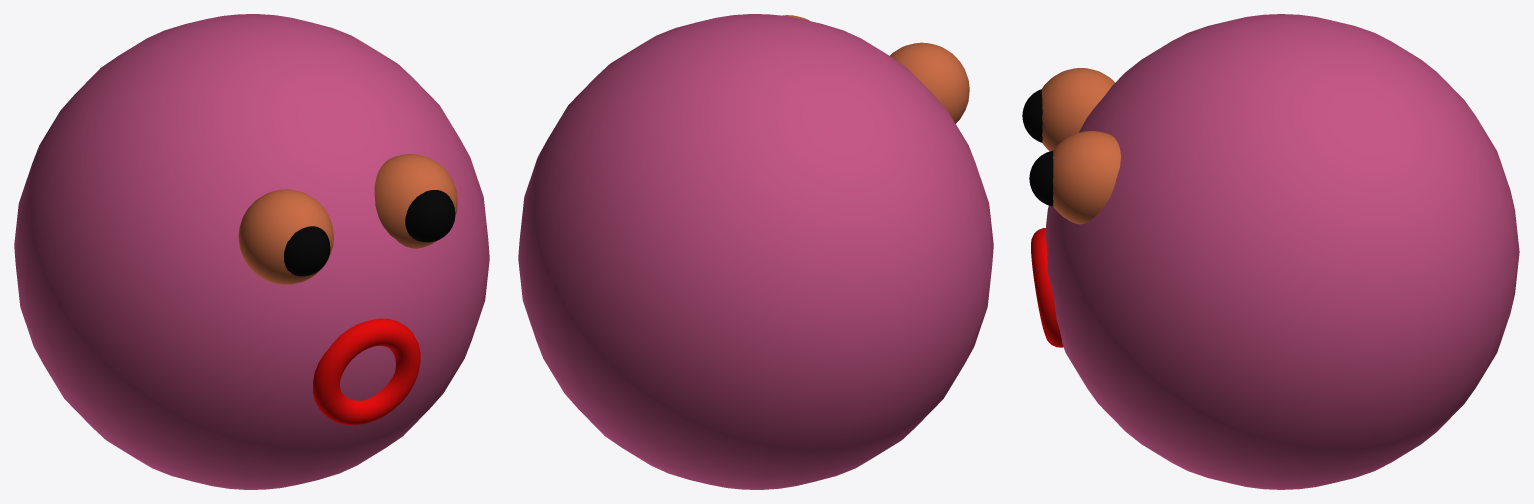
Rendered from tamar.fbx.
3 views of the same model, side by side, from view 1: azimuth 30°, elevation 25°; view 2: azimuth 150°, elevation 25°; view 3: azimuth 270°, elevation 25° (orthographic).
Parts seen in each view (by area): view 1: Sphere, Torus, Sphere_1, Sphere_2, Sphere_5, Sphere_4; view 2: Sphere, Sphere_1; view 3: Sphere, Sphere_2, Sphere_1, Torus, Sphere_5, Sphere_4.
Part boxes in pixels (box(x1,y1,x2,y2)): Sphere: box(14, 14, 489, 489); Torus: box(313, 318, 420, 425); Sphere_1: box(238, 189, 333, 284); Sphere_2: box(374, 154, 457, 248); Sphere_5: box(405, 190, 455, 242); Sphere_4: box(284, 226, 330, 276); Sphere: box(518, 14, 993, 489); Sphere_1: box(890, 42, 969, 123); Sphere: box(1045, 14, 1519, 489); Sphere_2: box(1053, 131, 1120, 224); Sphere_1: box(1041, 68, 1114, 151); Torus: box(1031, 228, 1063, 347); Sphere_5: box(1029, 151, 1053, 206); Sphere_4: box(1022, 89, 1042, 142).
Size of the model in its own units: 200 by 200 by 209.
